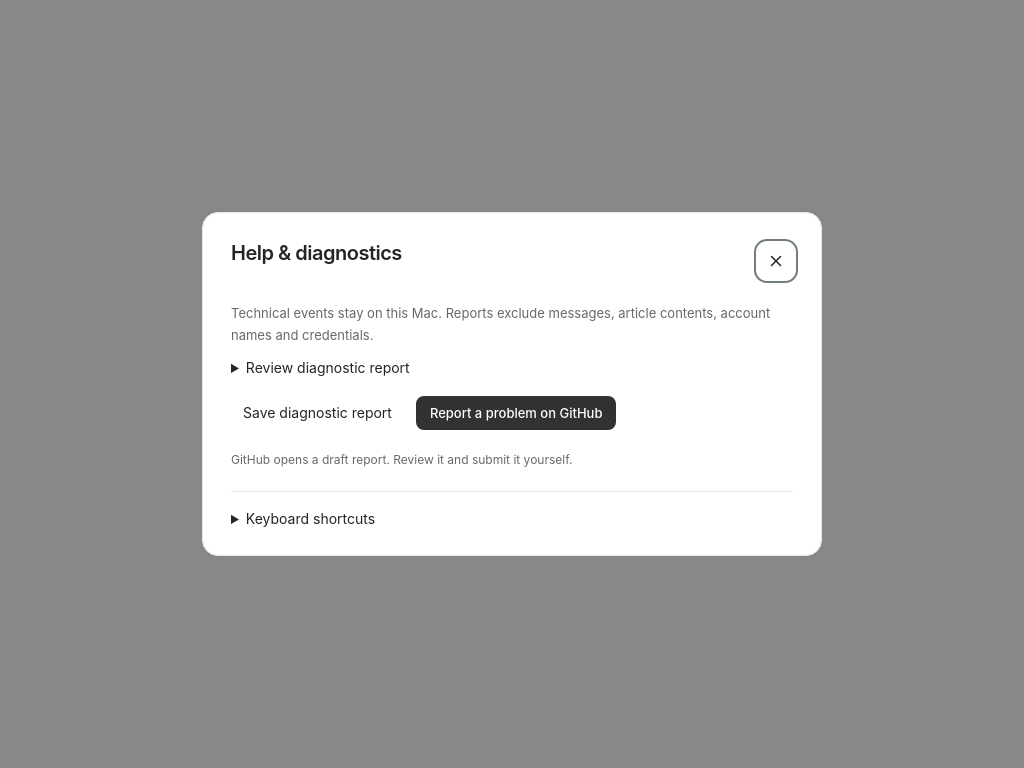
Test: keeps export errors visible in the modal and permits retry
Click the button "Save diagnostic report" at (318, 413), box [231, 396, 404, 430]
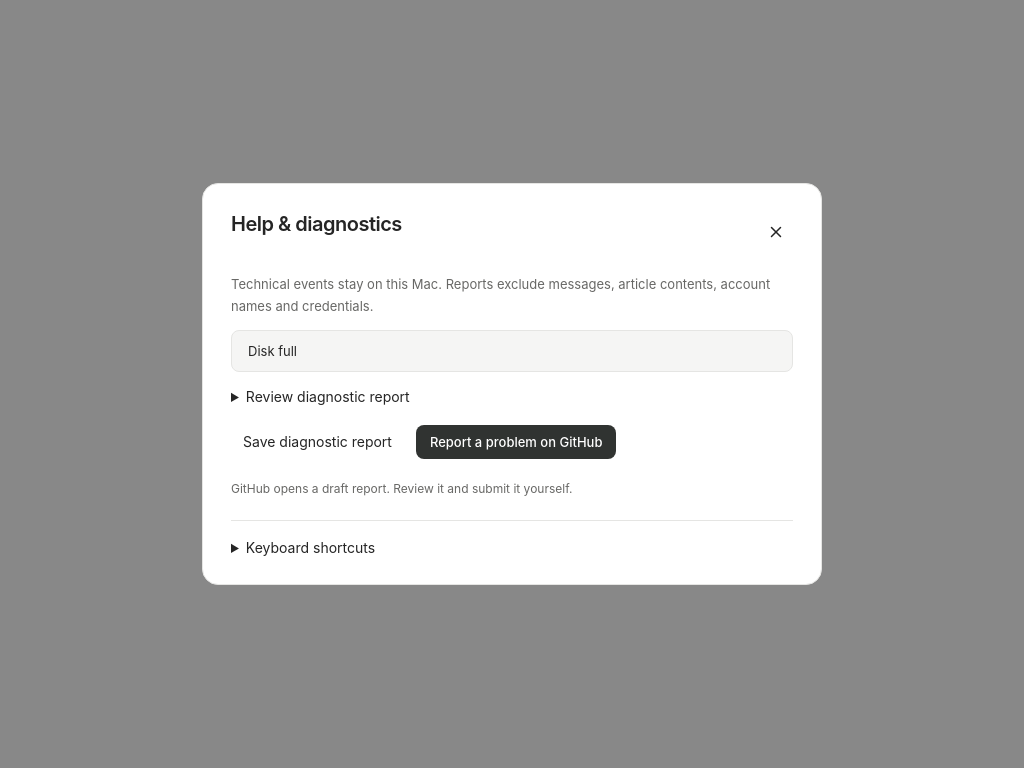
expect the button "Save diagnostic report" is enabled: met, box [231, 425, 404, 459]
expect the message reads "Disk full": met, box [248, 343, 297, 359]
